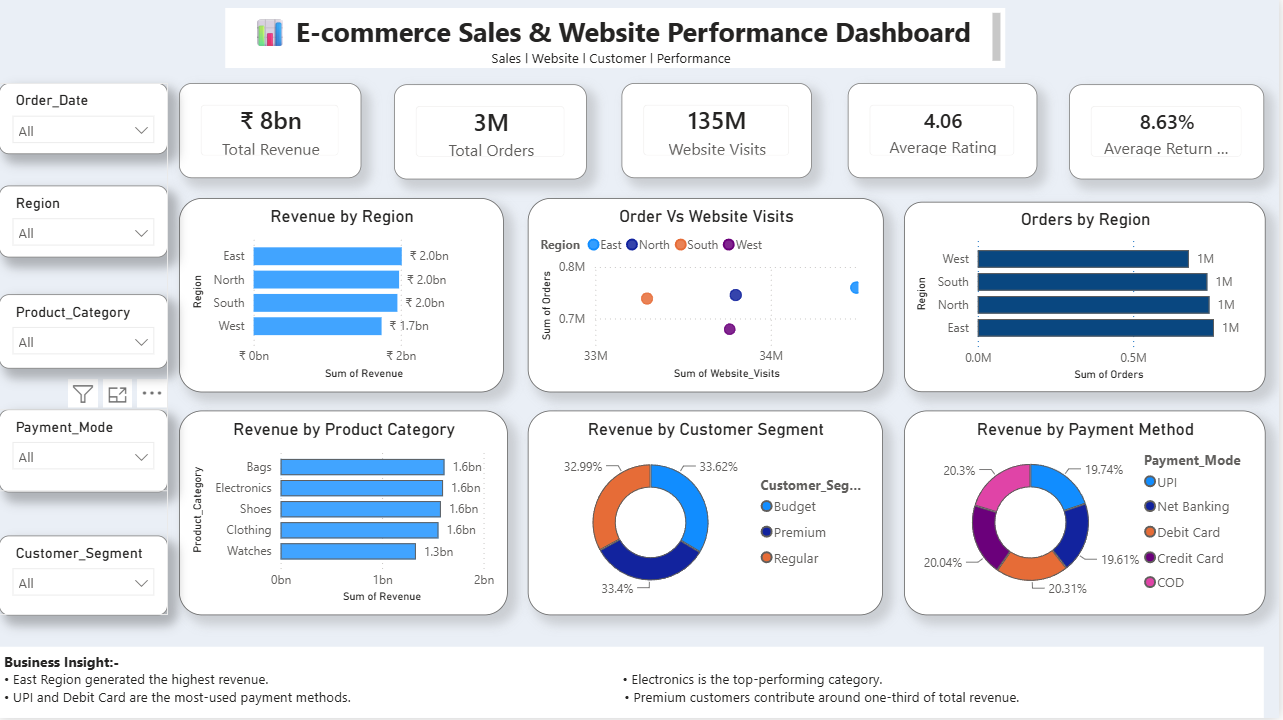

Layout of this report page (visuals, bound fields, positions):
{"tool":"powerbi","page":{"name":"Page 1","canvas":[1280,720],"ordinal":0},"visuals":[{"type":"cardVisual","fields":{"Data":["ecommerce_data.Total Revenue"]},"box":[179.8,84.5,182.2,95.3],"z":0},{"type":"slicer","fields":{"Values":["ecommerce_data.Order_Date"]},"box":[0,85,168.9,71.2],"z":0,"group":"g1"},{"type":"cardVisual","fields":{"Data":["ecommerce_data.Average Rating"]},"box":[849.3,84.5,189.4,95.3],"z":1000},{"type":"slicer","fields":{"Values":["ecommerce_data.Region"]},"box":[0,187.5,168.9,72.4],"z":1000,"group":"g1"},{"type":"cardVisual","fields":{"Data":["ecommerce_data.Website Visits"]},"box":[622.5,84.5,190.6,95.3],"z":2000},{"type":"slicer","fields":{"Values":["ecommerce_data.Payment_Mode"]},"box":[0,410.7,168.9,83.2],"z":2000,"group":"g1"},{"type":"cardVisual","fields":{"Data":["ecommerce_data.Total Orders"]},"box":[394.5,85.7,193,95.3],"z":3000},{"type":"slicer","fields":{"Values":["ecommerce_data.Product_Category"]},"box":[0,296.1,168.9,74.8],"z":3000,"group":"g1"},{"type":"cardVisual","fields":{"Data":["ecommerce_data.Average Return Rate"]},"box":[1070.1,85.7,195.4,95.3],"z":4000},{"type":"slicer","fields":{"Values":["ecommerce_data.Customer_Segment"]},"box":[0,537.4,168.9,79.6],"z":4000,"group":"g1"},{"type":"clusteredBarChart","title":"Revenue by Region","fields":{"Category":["ecommerce_data.Region"],"Y":["Sum(ecommerce_data.Revenue)"]},"box":[179.8,200.3,324.5,194.2],"z":5000},{"type":"barChart","title":" Revenue by Product Category","fields":{"Category":["ecommerce_data.Product_Category"],"Y":["Sum(ecommerce_data.Revenue)"]},"box":[180,412.5,328.8,205],"z":6000},{"type":"scatterChart","title":" Order Vs Website Visits","fields":{"X":["Sum(ecommerce_data.Website_Visits)"],"Y":["Sum(ecommerce_data.Orders)"],"Size":["Sum(ecommerce_data.Revenue)"],"Series":["ecommerce_data.Region"]},"box":[528.4,200.3,355.9,194.2],"z":7000},{"type":"donutChart","title":"Revenue by Payment Method","fields":{"Category":["ecommerce_data.Payment_Mode"],"Y":["Sum(ecommerce_data.Revenue)"]},"box":[905,412.5,361.2,205],"z":8000},{"type":"donutChart","title":" Revenue by Customer Segment","fields":{"Category":["ecommerce_data.Customer_Segment"],"Y":["Sum(ecommerce_data.Revenue)"]},"box":[528.8,412.5,355,205],"z":9000},{"type":"clusteredBarChart","title":"Orders by Region","fields":{"Category":["ecommerce_data.Region"],"Y":["Sum(ecommerce_data.Orders)"]},"box":[904.8,203.9,361.9,190.6],"z":10000},{"type":"textbox","box":[226.2,10,780,60],"z":11000},{"type":"group","id":"g1","title":"Group 1","box":[0,85,168.8,532.5],"z":12000},{"type":"textbox","box":[0,648.8,1265,71.2],"z":13000}]}

Visuals, with their boxes in screenshot pixels (x1, y1, x2, y2), scaled from the page's 1280x720 canvas onto the 1283x720 screenshot:
cardVisual - ecommerce_data.Total Revenue: (left=180, top=84, right=363, bottom=180)
slicer - ecommerce_data.Order_Date: (left=0, top=85, right=169, bottom=156)
cardVisual - ecommerce_data.Average Rating: (left=851, top=84, right=1041, bottom=180)
slicer - ecommerce_data.Region: (left=0, top=188, right=169, bottom=260)
cardVisual - ecommerce_data.Website Visits: (left=624, top=84, right=815, bottom=180)
slicer - ecommerce_data.Payment_Mode: (left=0, top=411, right=169, bottom=494)
cardVisual - ecommerce_data.Total Orders: (left=395, top=86, right=589, bottom=181)
slicer - ecommerce_data.Product_Category: (left=0, top=296, right=169, bottom=371)
cardVisual - ecommerce_data.Average Return Rate: (left=1073, top=86, right=1268, bottom=181)
slicer - ecommerce_data.Customer_Segment: (left=0, top=537, right=169, bottom=617)
"Revenue by Region" clusteredBarChart: (left=180, top=200, right=505, bottom=394)
" Revenue by Product Category" barChart: (left=180, top=412, right=510, bottom=618)
" Order Vs Website Visits" scatterChart: (left=530, top=200, right=886, bottom=394)
"Revenue by Payment Method" donutChart: (left=907, top=412, right=1269, bottom=618)
" Revenue by Customer Segment" donutChart: (left=530, top=412, right=886, bottom=618)
"Orders by Region" clusteredBarChart: (left=907, top=204, right=1270, bottom=394)
textbox: (left=227, top=10, right=1009, bottom=70)
"Group 1" group: (left=0, top=85, right=169, bottom=618)
textbox: (left=0, top=649, right=1268, bottom=719)
